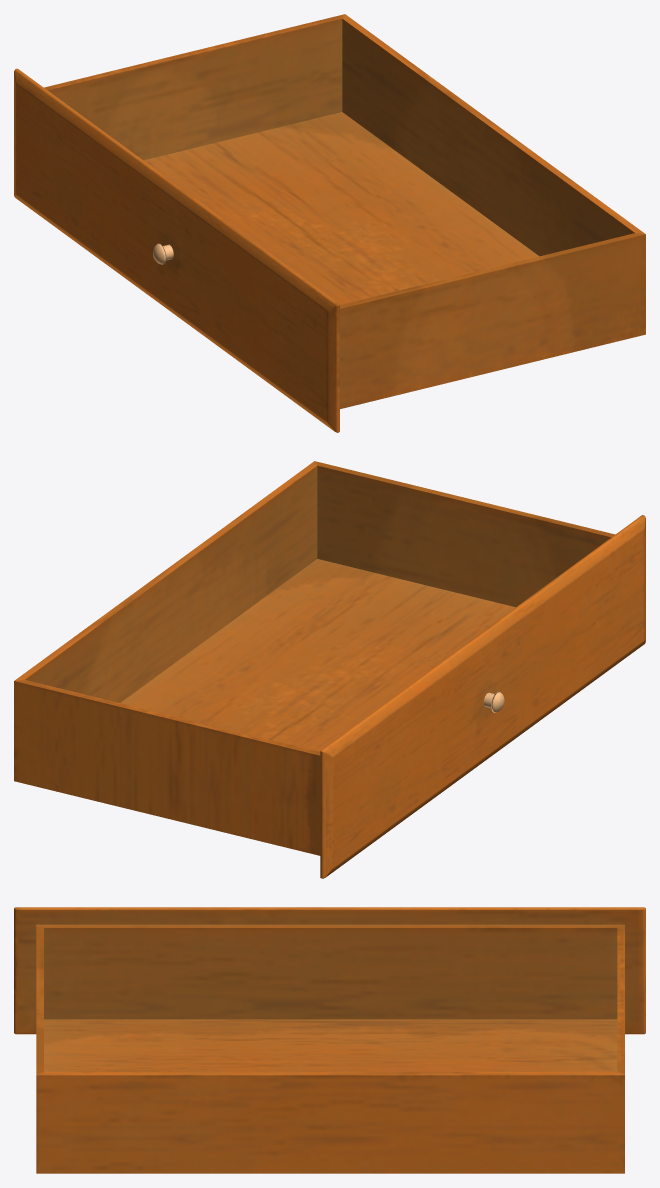
The model's file is SM_Drawer_A1_Cab1.fbx.
The picture shows the model from 3 angles, top to bottom: view 1: azimuth 30°, elevation 25°; view 2: azimuth 150°, elevation 25°; view 3: azimuth 270°, elevation 25°; orthographic projection. The views are drawn at different scales.
Visible parts, largest first — view 1: SM_Drawer_A1_Cab1; view 2: SM_Drawer_A1_Cab1; view 3: SM_Drawer_A1_Cab1.
Boxes of the visible parts, left/top/right/bottom form: SM_Drawer_A1_Cab1: left=14, top=14, right=645, bottom=432; SM_Drawer_A1_Cab1: left=14, top=461, right=645, bottom=878; SM_Drawer_A1_Cab1: left=14, top=907, right=645, bottom=1173.
Bounding box in the file's own units: 49.55 × 81.46 × 17.89.
1 material, 1 textured.
